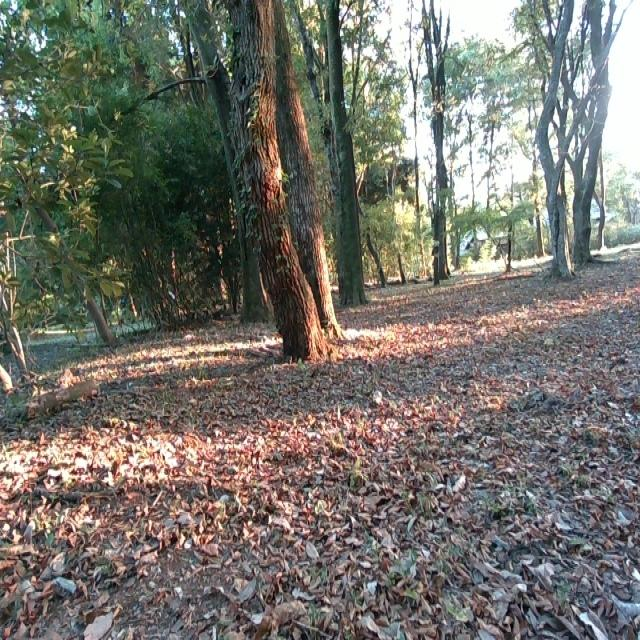bush: (0, 2, 122, 364)
tree: (184, 0, 357, 368), (536, 0, 612, 285), (323, 0, 368, 309), (421, 0, 453, 285)
